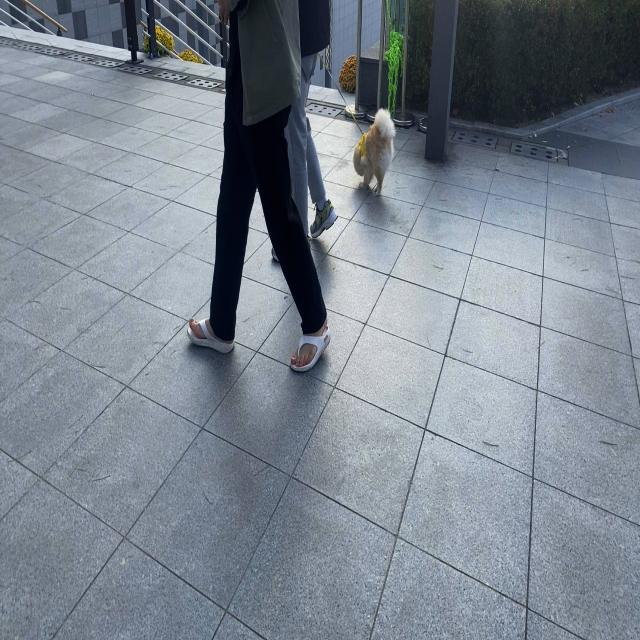Leashed_Dog: (297, 26, 395, 198)
